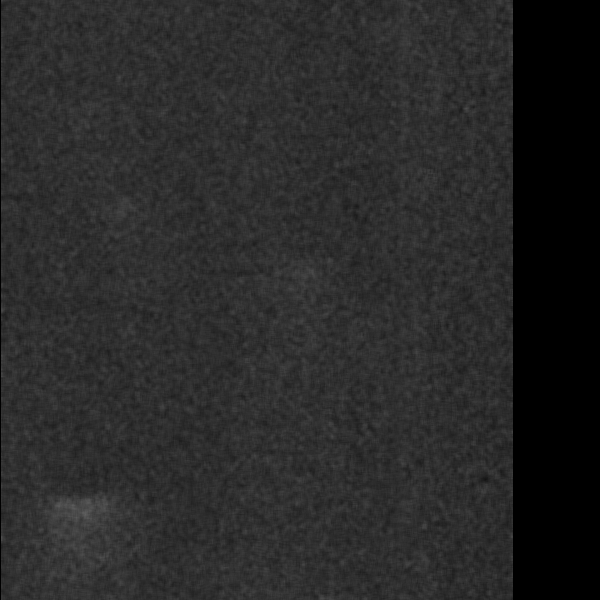spark: (55, 488, 105, 567)
